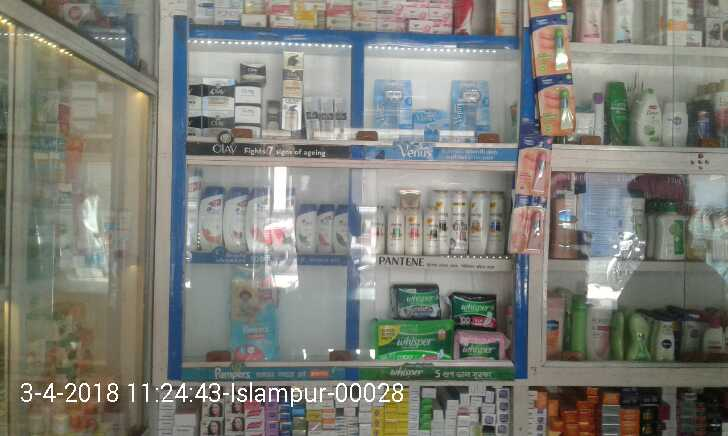venus: (452, 80, 489, 131), (375, 80, 413, 128), (414, 108, 450, 129)
